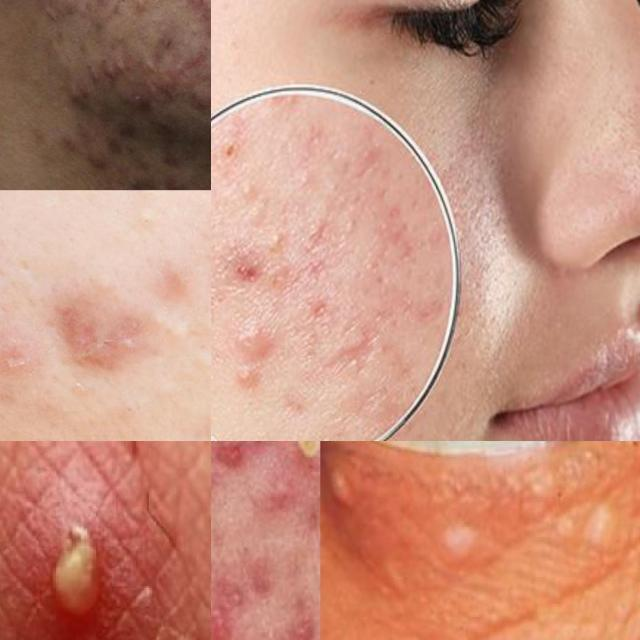acne_scars: (58, 291, 133, 397), (211, 565, 260, 640), (324, 339, 376, 396), (300, 218, 330, 278), (218, 256, 260, 290), (235, 441, 289, 465)
comedone: (118, 190, 188, 236), (164, 311, 204, 357), (230, 175, 258, 213), (284, 165, 314, 200), (268, 219, 286, 268), (341, 210, 359, 242), (211, 179, 219, 213)
cystic: (106, 54, 130, 86), (195, 81, 211, 117), (134, 0, 151, 28), (40, 3, 56, 24)
papule: (224, 358, 267, 404)
pustule: (283, 441, 320, 483)
syringoma: (417, 441, 640, 613)
